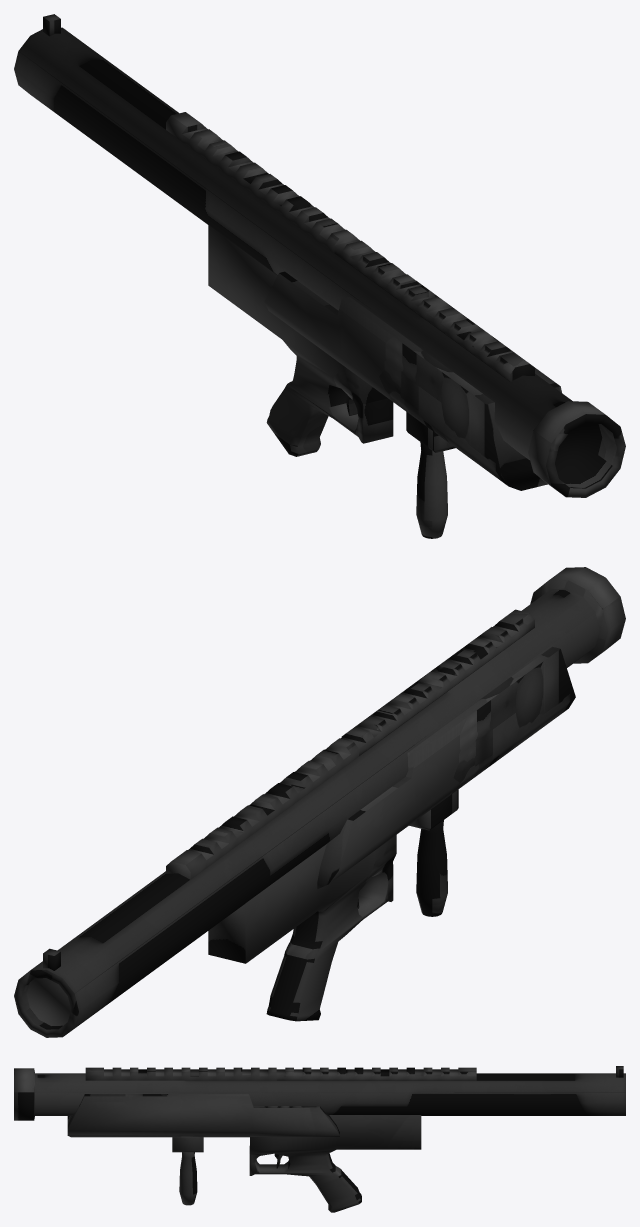
The model's file is easy-weapons-rocket-launcher.glb.
3 renders of one model, top to bottom at view 1: azimuth 30°, elevation 25°; view 2: azimuth 150°, elevation 25°; view 3: azimuth 270°, elevation 25°, orthographic. The views are drawn at different scales.
Parts seen in each view (by area): view 1: rocket_launcher; view 2: rocket_launcher; view 3: rocket_launcher.
Part boxes in pixels (x1=…): rocket_launcher: x1=14, y1=14, x2=625, y2=538; rocket_launcher: x1=14, y1=567, x2=625, y2=1037; rocket_launcher: x1=14, y1=1066, x2=625, y2=1212.
Size of the model in its own units: 0.0498 by 0.1485 by 0.58.
1 material, 1 textured.
